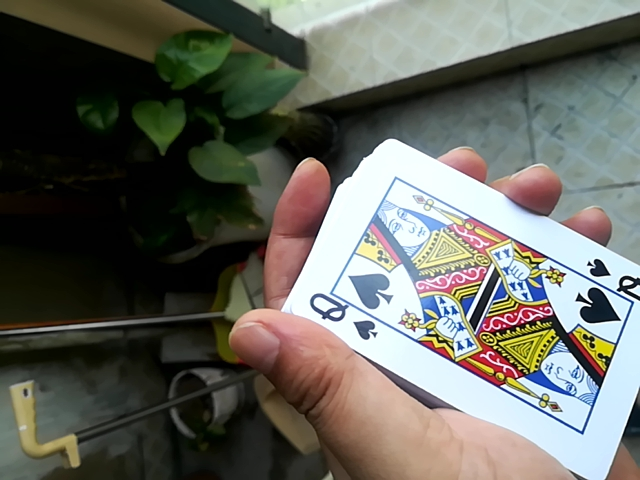ht q: (268, 139, 633, 465)
